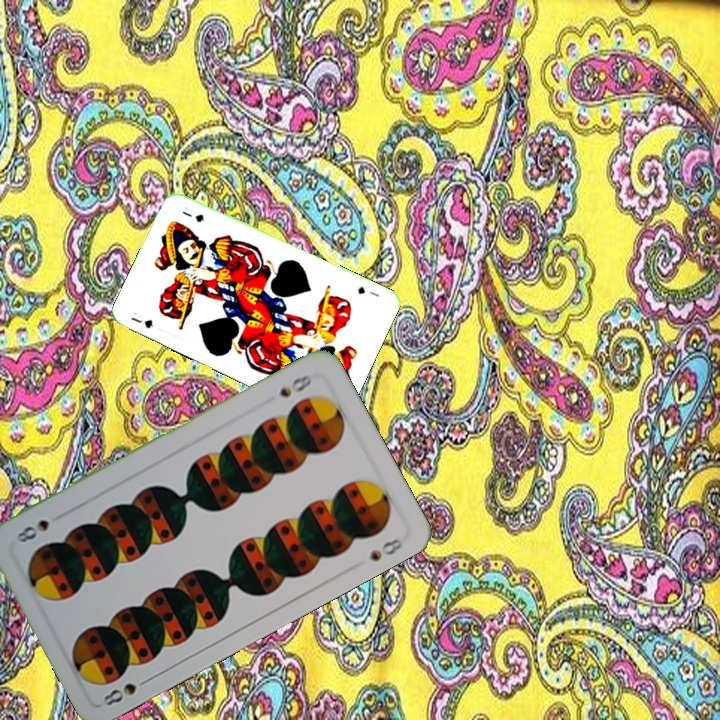GU: (127, 308, 156, 331), (354, 282, 382, 299)
S8: (99, 673, 154, 709), (275, 370, 314, 400)
